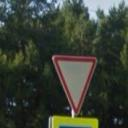preferencia: (50, 51, 101, 118)
